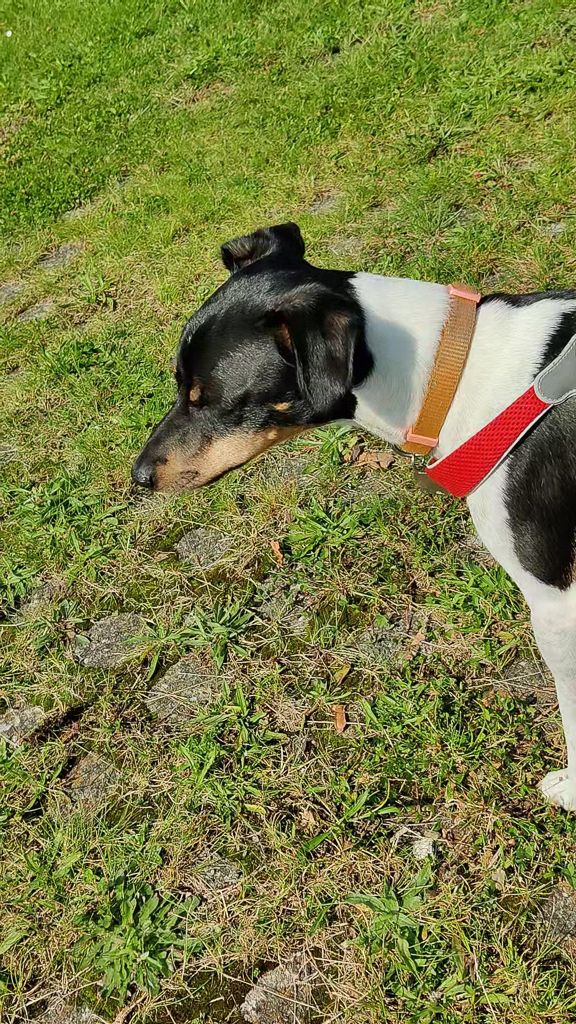Dog: (119, 184, 576, 838)
